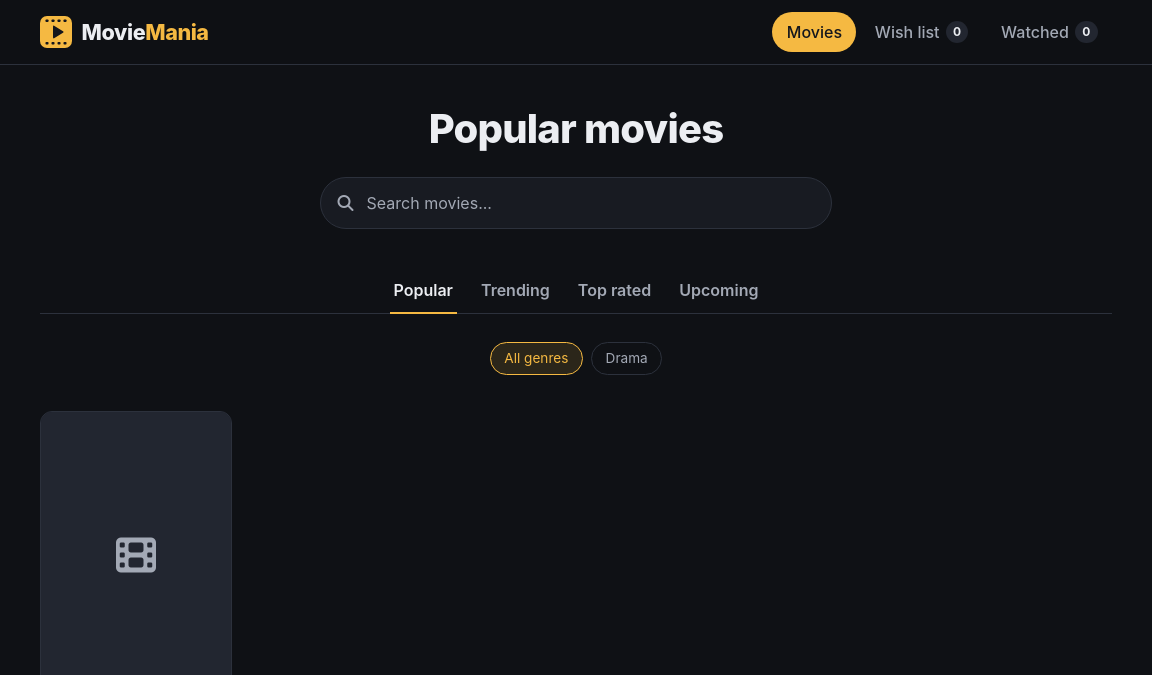
Test: MovieMania › counts a search once, without what was typed or another page view
In the search field labelled "Search movies": (576, 203) top-left (320, 177), bottom-right (832, 229), type "dune"
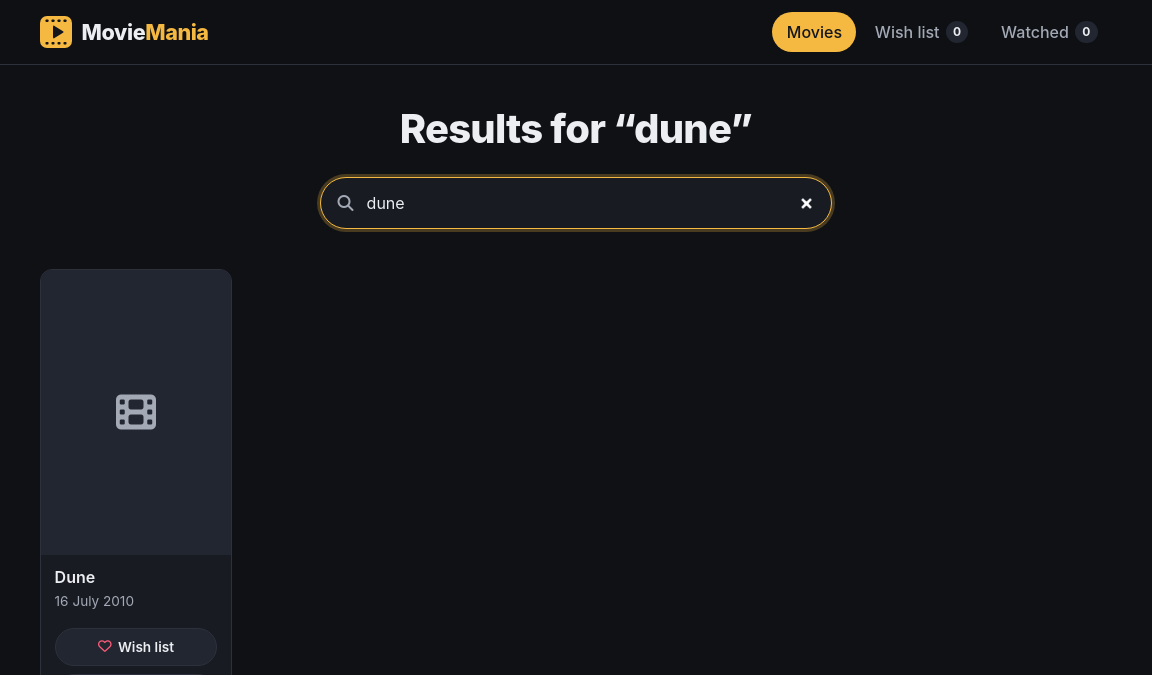
Now the heading "Dune" is shown, box top-left (55, 567), bottom-right (95, 587)
